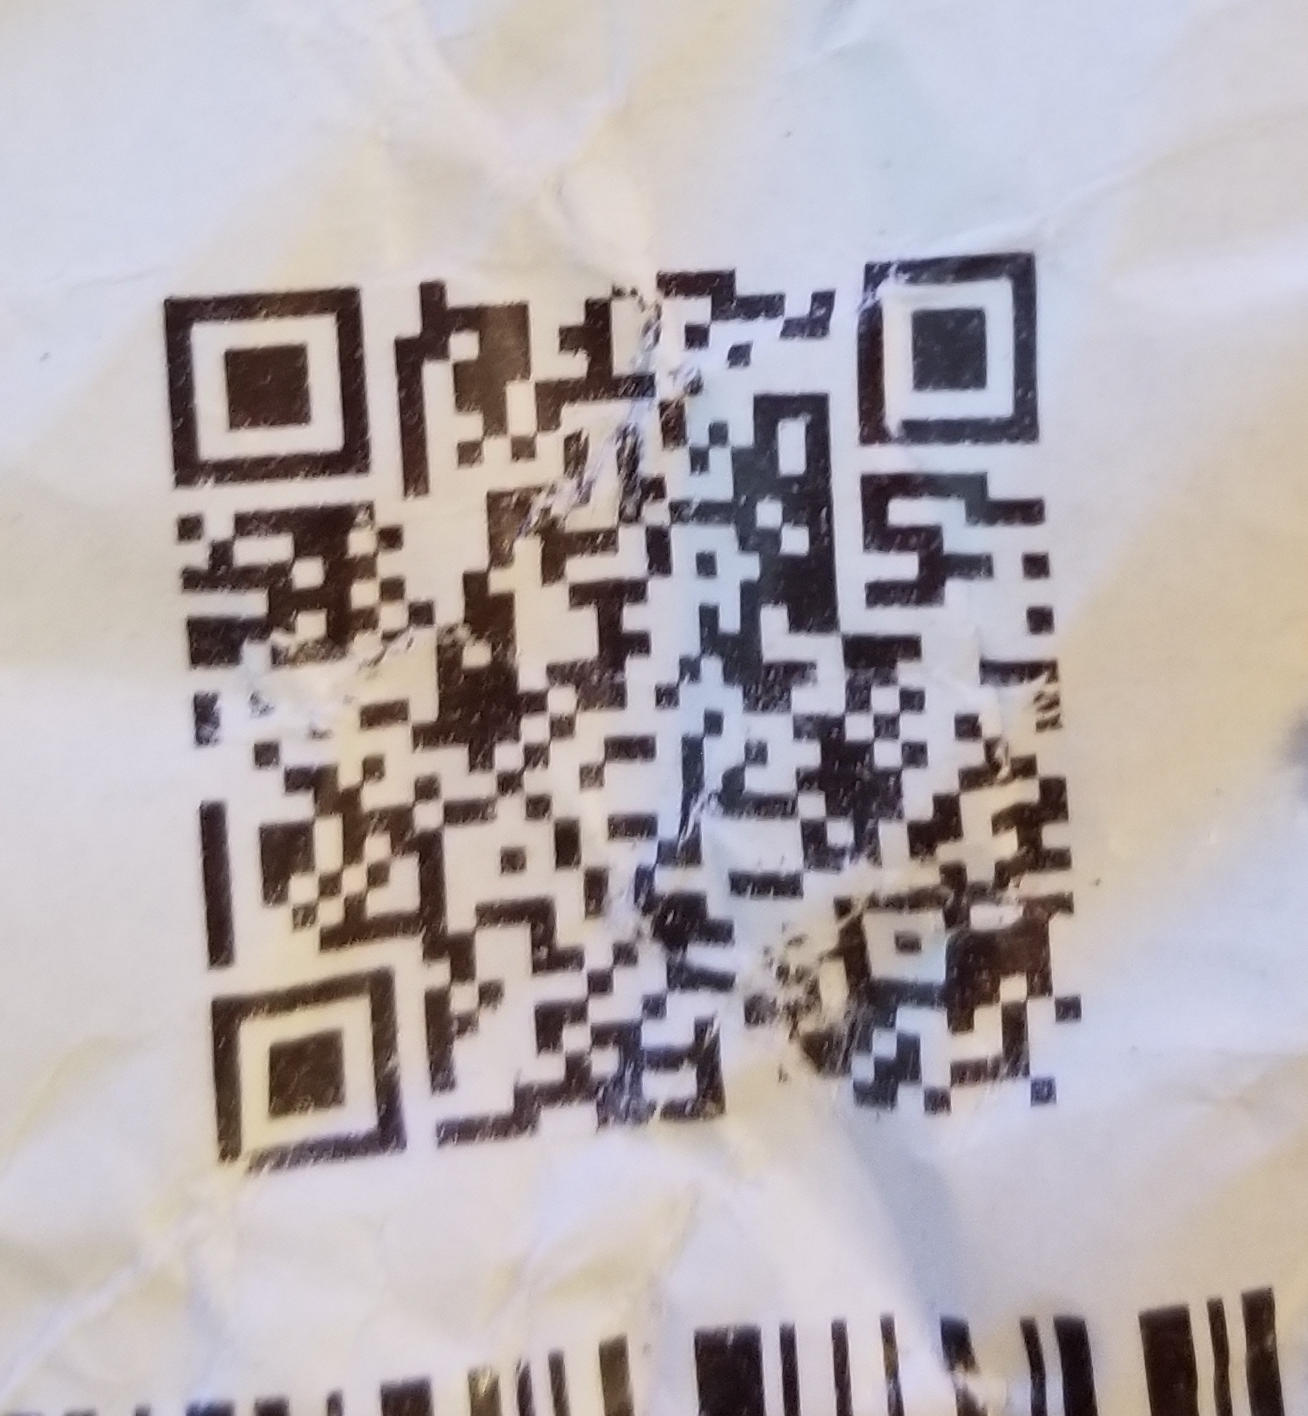QR_CODE: (111, 200, 1130, 1204)
